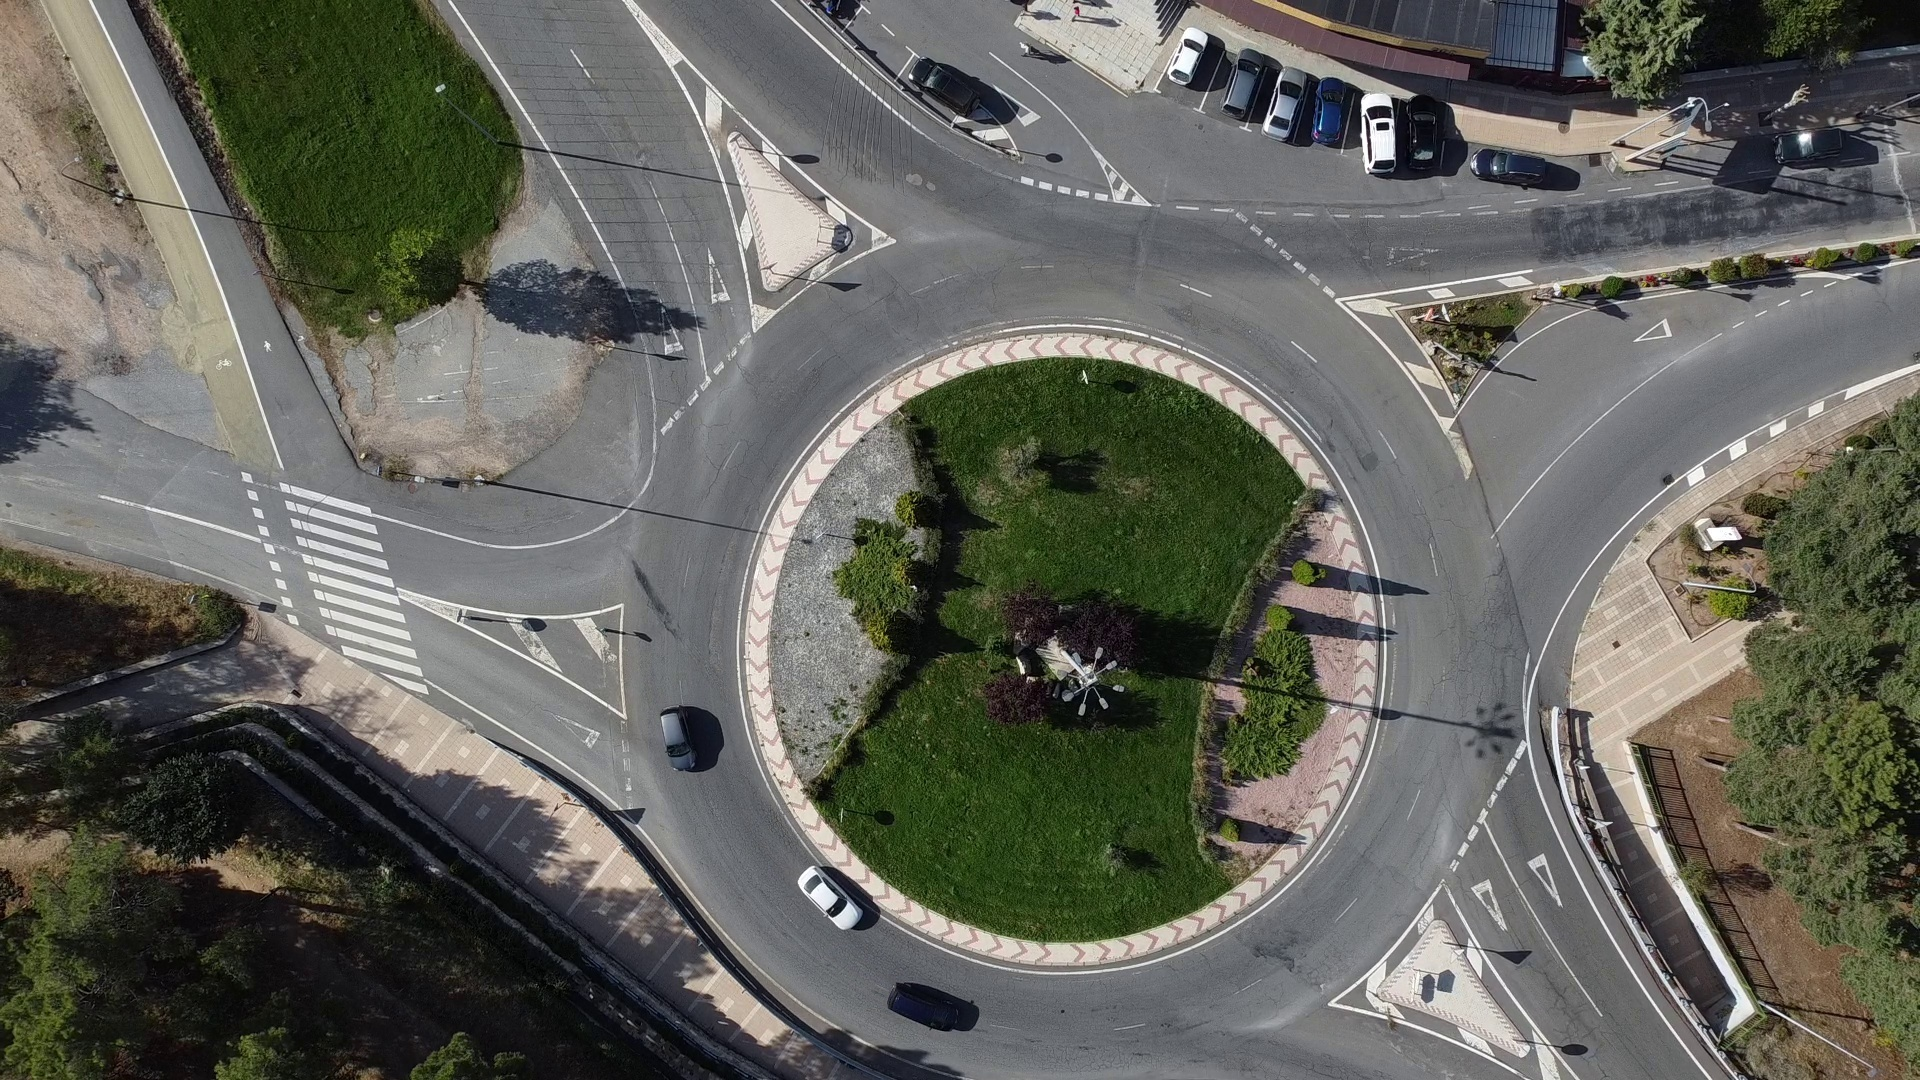vehicle: (905, 55, 982, 117), (793, 862, 861, 931), (885, 980, 963, 1033), (1257, 67, 1307, 145), (1217, 47, 1269, 117), (1358, 90, 1395, 177), (653, 704, 696, 775), (1465, 146, 1545, 185), (1768, 125, 1845, 164), (1403, 96, 1443, 170), (1308, 78, 1346, 146), (1164, 30, 1209, 88)
